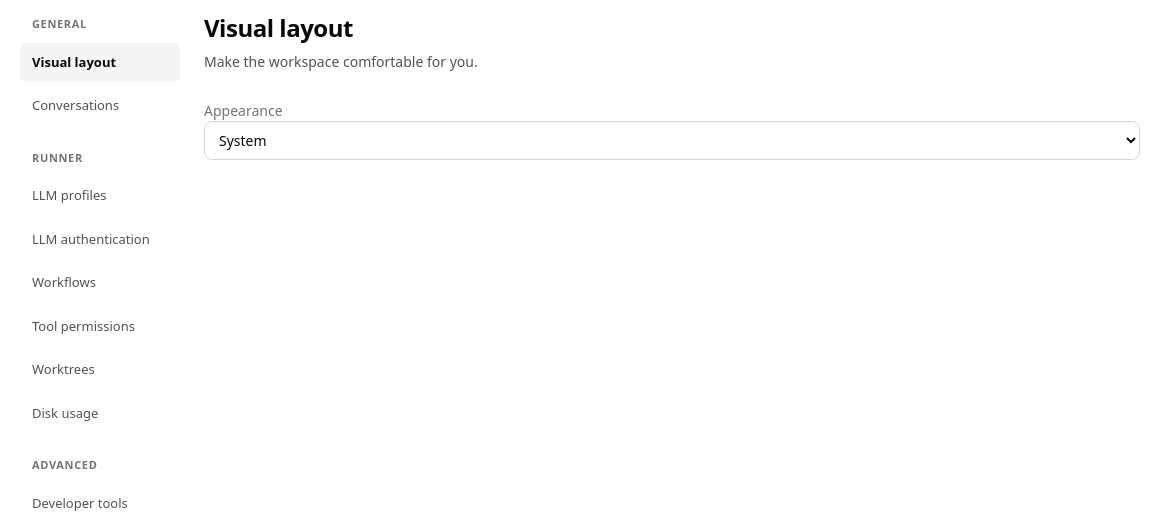
Test case: workflow settings require a runner
Step 1. Click the button "Workflows" → (100, 283), box [20,263,180,302]
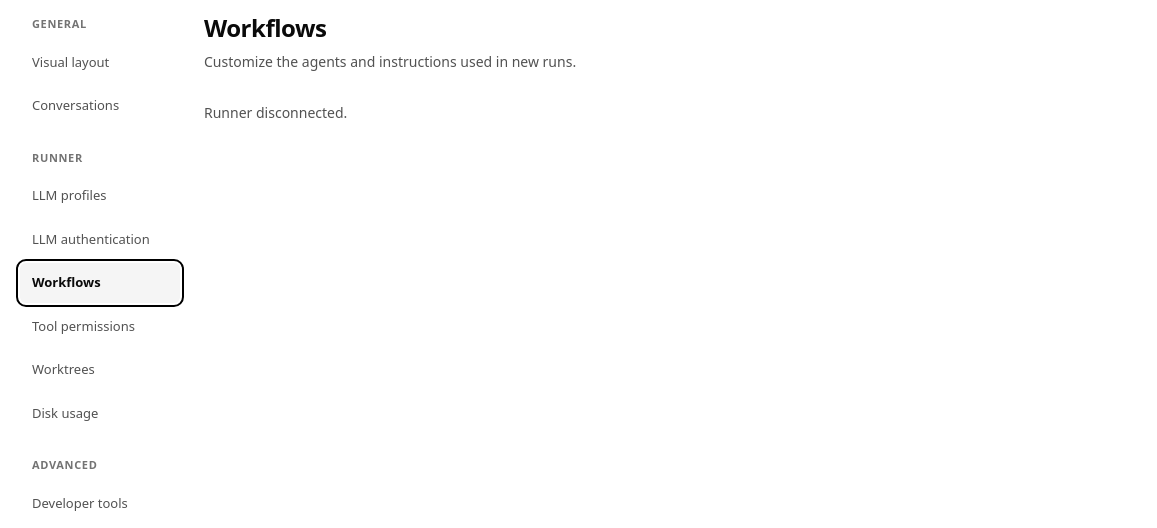
Expected: the message shows "Runner disconnected", [204,103,347,122]
